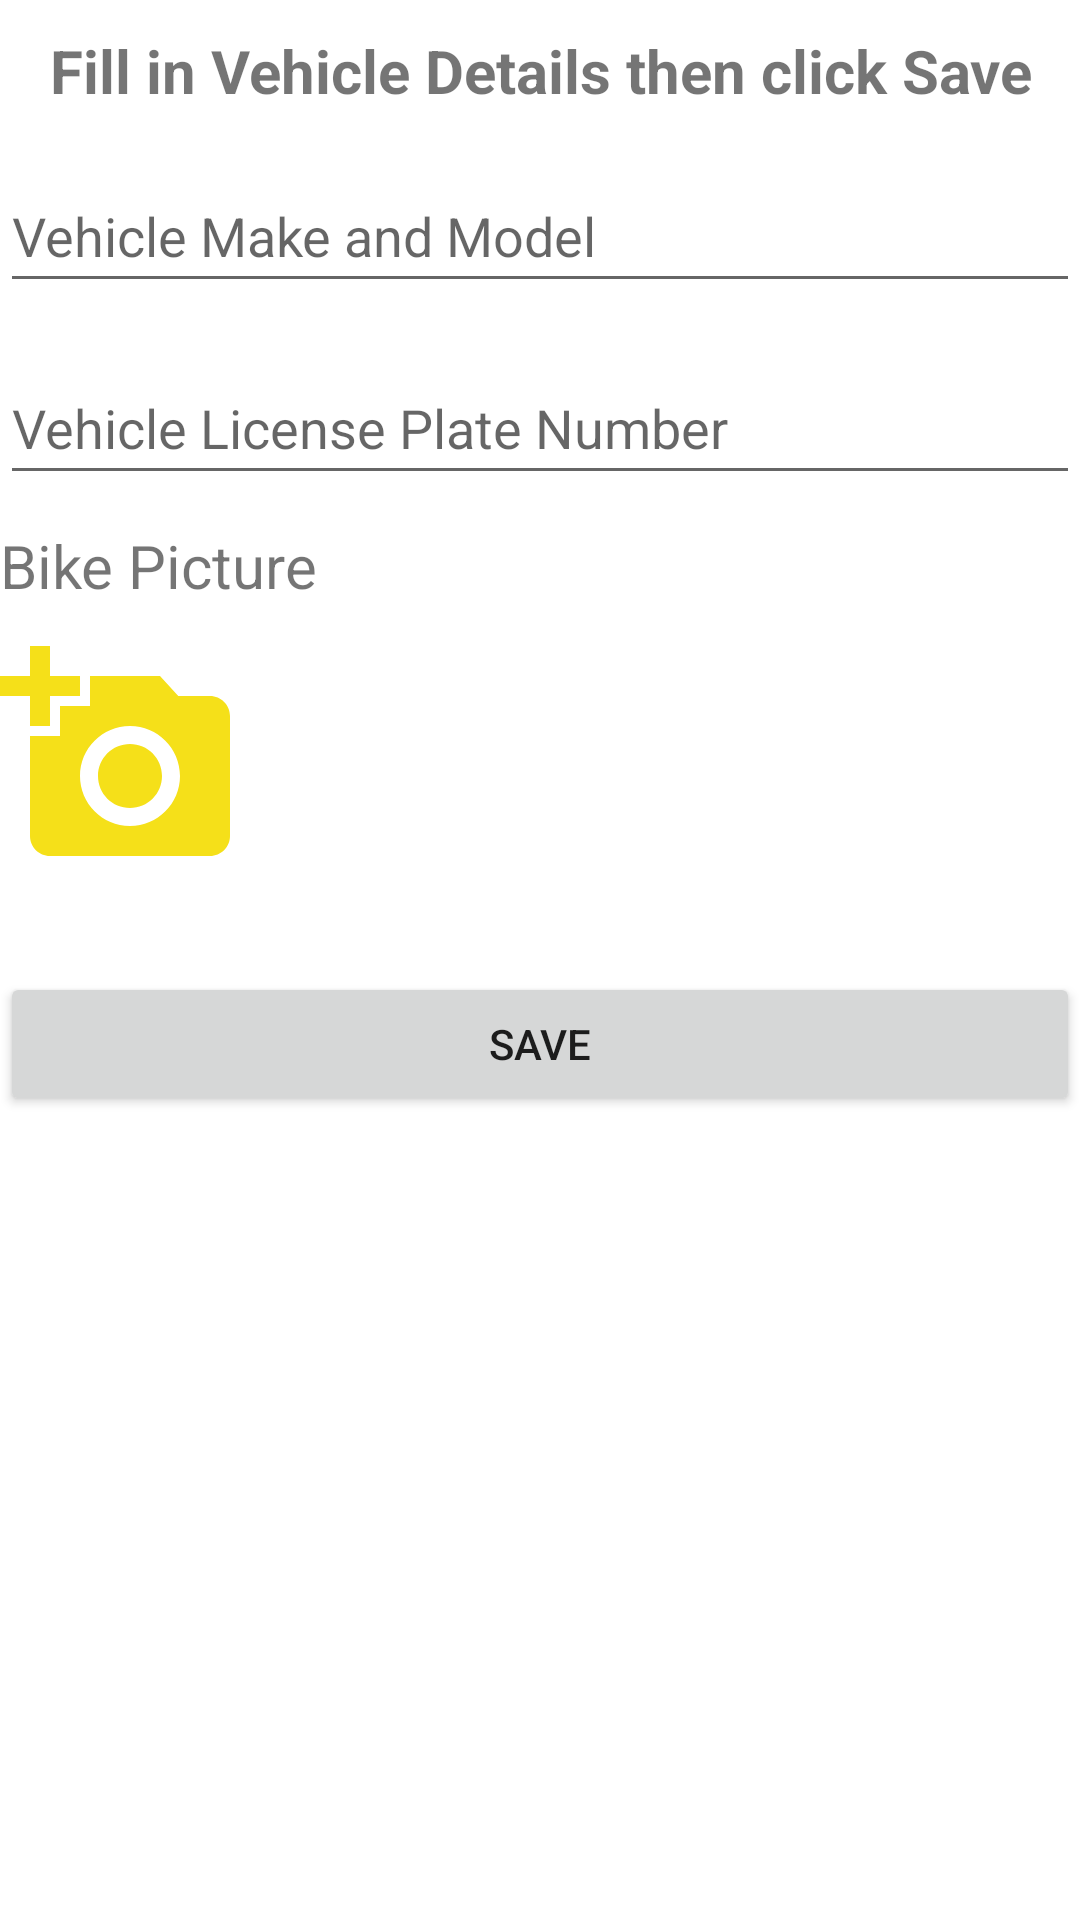

Icons on this 1080x1920 Android screen, each with its box as (x1, y1, x2, y2):
addphoto: (0, 646, 230, 856)
